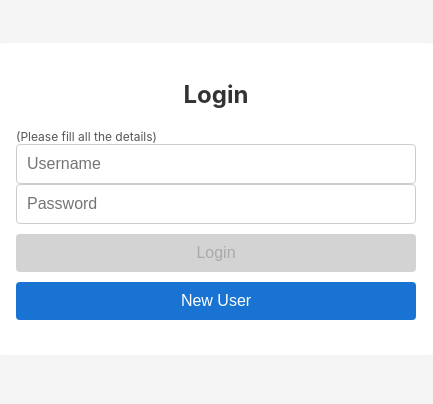
Toggle between register screen and Login Screen when user clicks on New User button
Expected: the button with test id "login-id" reads "Login", [16,234,416,272]
Click the button with test id "toggle-user-type" at (216, 300), box [16,282,416,320]
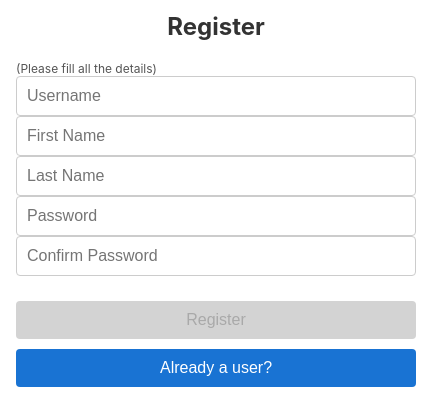
Now the button with test id "toggle-user-type" reads "Already a user?", box [16,349,416,387]
Now the button with test id "login-id" reads "Register", box [16,301,416,339]
Now the field with placeholder "First Name" is shown, box [16,116,416,156]
